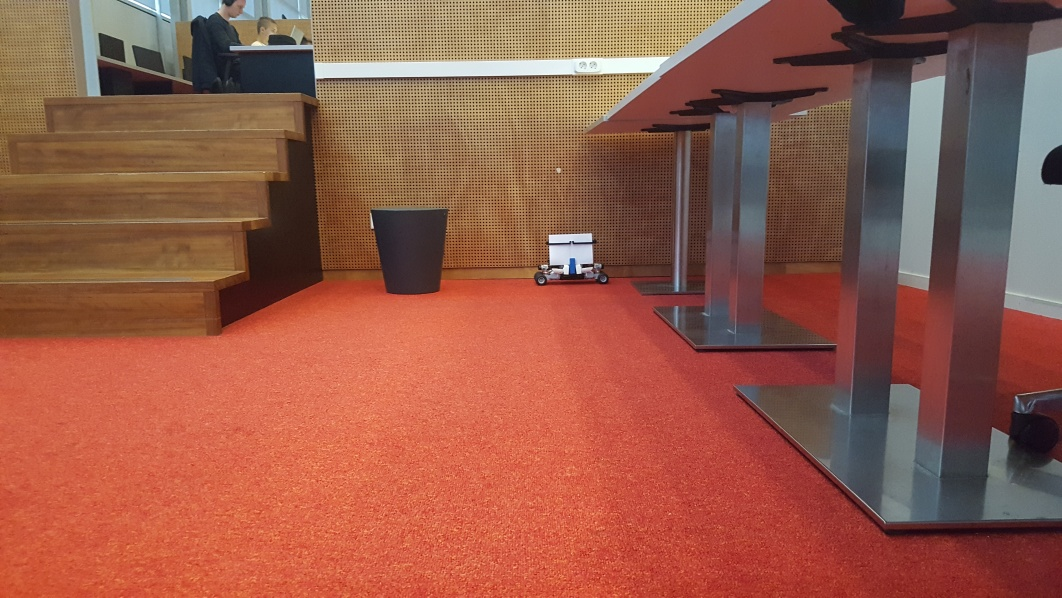car: (534, 232, 611, 286)
